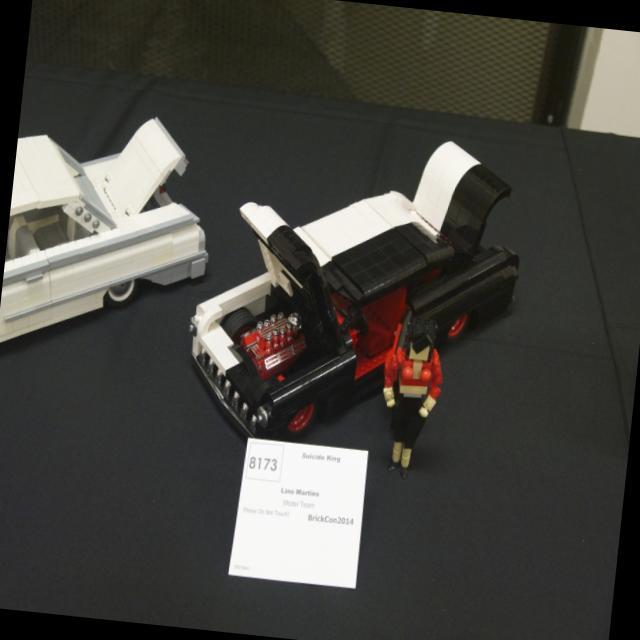Toy: (153, 107, 554, 454), (0, 106, 219, 375), (374, 313, 445, 476)
